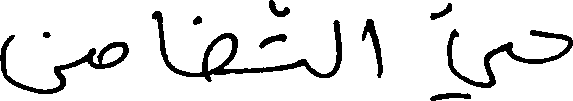ا: (368, 17, 382, 78), (156, 9, 166, 67)
ت: (259, 0, 308, 73)
ح: (530, 27, 571, 64)
ض: (192, 14, 236, 82)
ل: (331, 18, 339, 76)
م: (88, 39, 127, 69)
ن: (0, 30, 64, 94)
ي: (430, 1, 508, 99)
